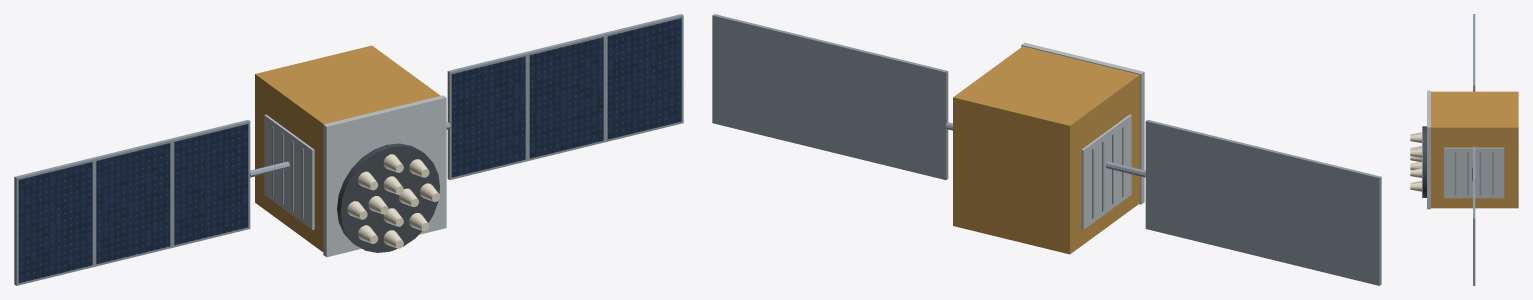
File: gps-iir.glb
3 renders of one model, left to right at view 1: azimuth 30°, elevation 25°; view 2: azimuth 150°, elevation 25°; view 3: azimuth 270°, elevation 25°, orthographic. The views are drawn at different scales.
Visible parts, largest first — view 1: Photovoltaic laminates (×6), Equipment bus, Payload deck, Array frame (×6), Navigation antenna base, Radiator; view 2: Array frame (×6), Equipment bus, Radiator, Payload deck; view 3: Equipment bus, Radiator, Navigation antenna element (×5), Payload deck, Radiator channel (×4), Array frame (×2), Navigation antenna base.
Boxes of the visible parts, x1,y1,x2,y2 form: Photovoltaic laminates (×6): (18,18,681,283); Equipment bus: (255,45,440,251); Payload deck: (323,95,446,257); Array frame (×6): (14,14,683,285); Navigation antenna base: (337,143,439,252); Radiator: (264,114,314,229); Array frame (×6): (712,14,1381,285); Equipment bus: (953,46,1139,254); Radiator: (1081,114,1131,229); Payload deck: (1021,42,1144,204); Equipment bus: (1431,91,1518,208); Radiator: (1444,147,1504,198); Navigation antenna element (×5): (1410,133,1421,191); Payload deck: (1427,90,1430,209); Radiator channel (×4): (1454,151,1493,195); Array frame (×2): (1473,61,1475,285); Navigation antenna base: (1422,126,1426,197).
Size of the model in its own units: 11.4 by 2.23 by 2.56.
Materials: 6 (1 with a texture image).
